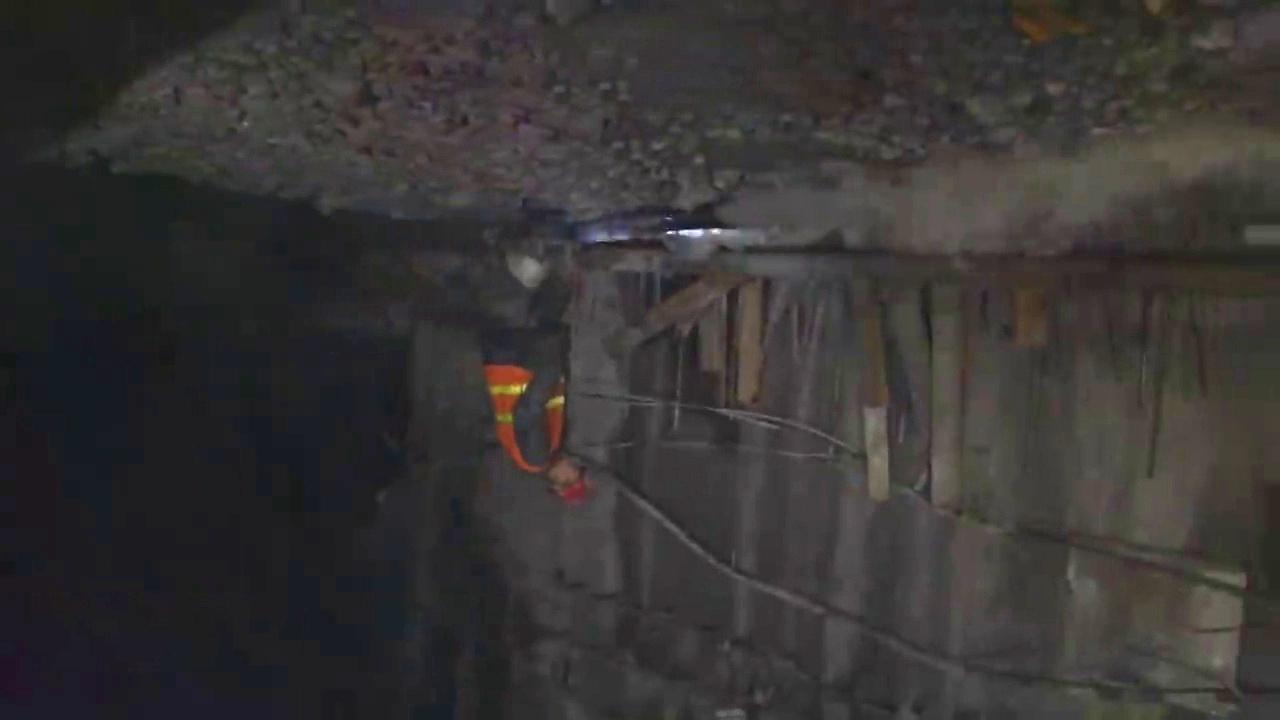helmet: (547, 458, 597, 508)
